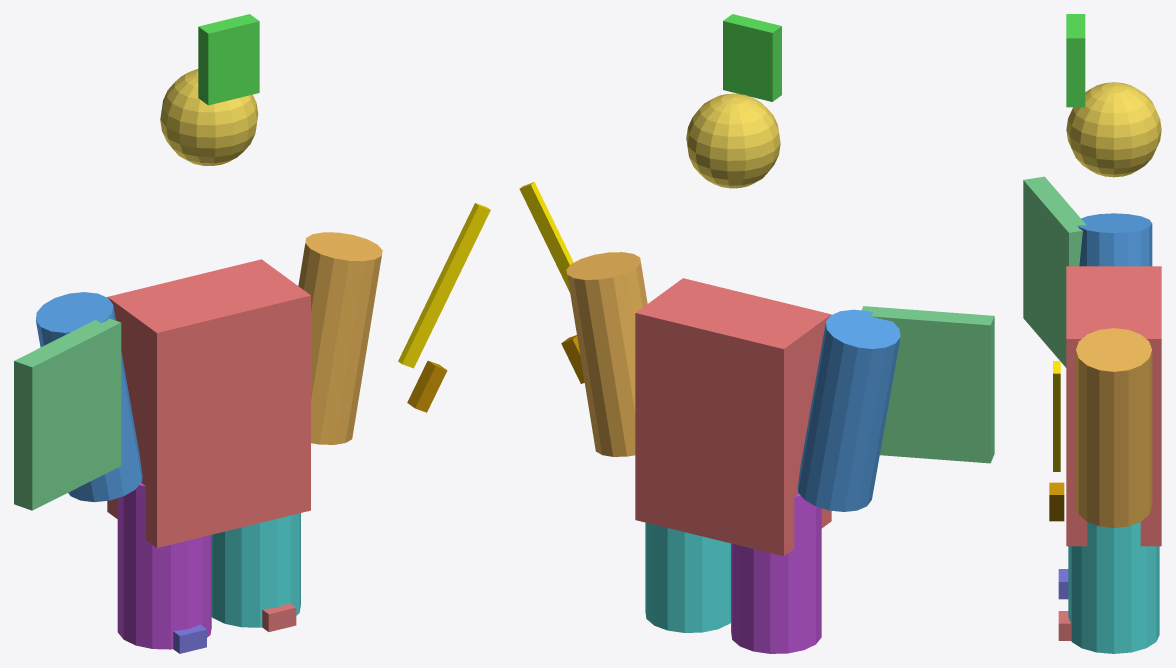
File: colorful_armored_knight.glb
The picture shows the model from 3 angles, left to right: view 1: azimuth 30°, elevation 25°; view 2: azimuth 150°, elevation 25°; view 3: azimuth 270°, elevation 25°; orthographic projection. The views are drawn at different scales.
Visible parts, largest first — view 1: torso, shield, right_arm, left_leg, right_leg, head, left_arm, helmet_crest, sword_blade, sword_handle, right_foot, left_foot; view 2: torso, shield, left_arm, right_arm, left_leg, right_leg, head, helmet_crest, sword_blade; view 3: right_arm, torso, right_leg, shield, head, left_arm, helmet_crest, sword_blade, sword_handle, right_foot, left_foot.
Boxes of the visible parts, bbox=[...] form: torso: bbox=[107, 259, 310, 547]; shield: bbox=[14, 318, 121, 510]; right_arm: bbox=[298, 232, 382, 444]; left_leg: bbox=[117, 483, 211, 649]; right_leg: bbox=[211, 513, 300, 627]; head: bbox=[160, 69, 258, 165]; left_arm: bbox=[35, 292, 142, 502]; helmet_crest: bbox=[198, 14, 259, 105]; sword_blade: bbox=[398, 203, 490, 368]; sword_handle: bbox=[407, 360, 447, 412]; right_foot: bbox=[262, 603, 296, 631]; left_foot: bbox=[173, 624, 206, 653]; torso: bbox=[635, 278, 831, 556]; shield: bbox=[862, 306, 994, 463]; left_arm: bbox=[797, 309, 900, 511]; right_arm: bbox=[566, 252, 647, 456]; left_leg: bbox=[731, 494, 821, 653]; right_leg: bbox=[645, 522, 730, 632]; head: bbox=[686, 93, 780, 188]; helmet_crest: bbox=[723, 14, 781, 101]; sword_blade: bbox=[519, 182, 573, 292]; right_arm: bbox=[1076, 328, 1152, 527]; torso: bbox=[1066, 266, 1161, 546]; right_leg: bbox=[1068, 522, 1159, 653]; shield: bbox=[1023, 176, 1086, 367]; head: bbox=[1066, 82, 1161, 177]; left_arm: bbox=[1077, 213, 1152, 266]; helmet_crest: bbox=[1066, 14, 1085, 107]; sword_blade: bbox=[1053, 361, 1060, 471]; sword_handle: bbox=[1049, 482, 1064, 521]; right_foot: bbox=[1058, 611, 1071, 640]; left_foot: bbox=[1058, 569, 1068, 599].
Size of the model in its own units: 1.4 by 1.7 by 0.363.
